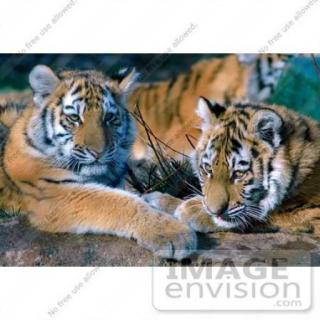Tiger: (5, 55, 196, 254), (190, 86, 316, 232), (113, 50, 292, 152)
